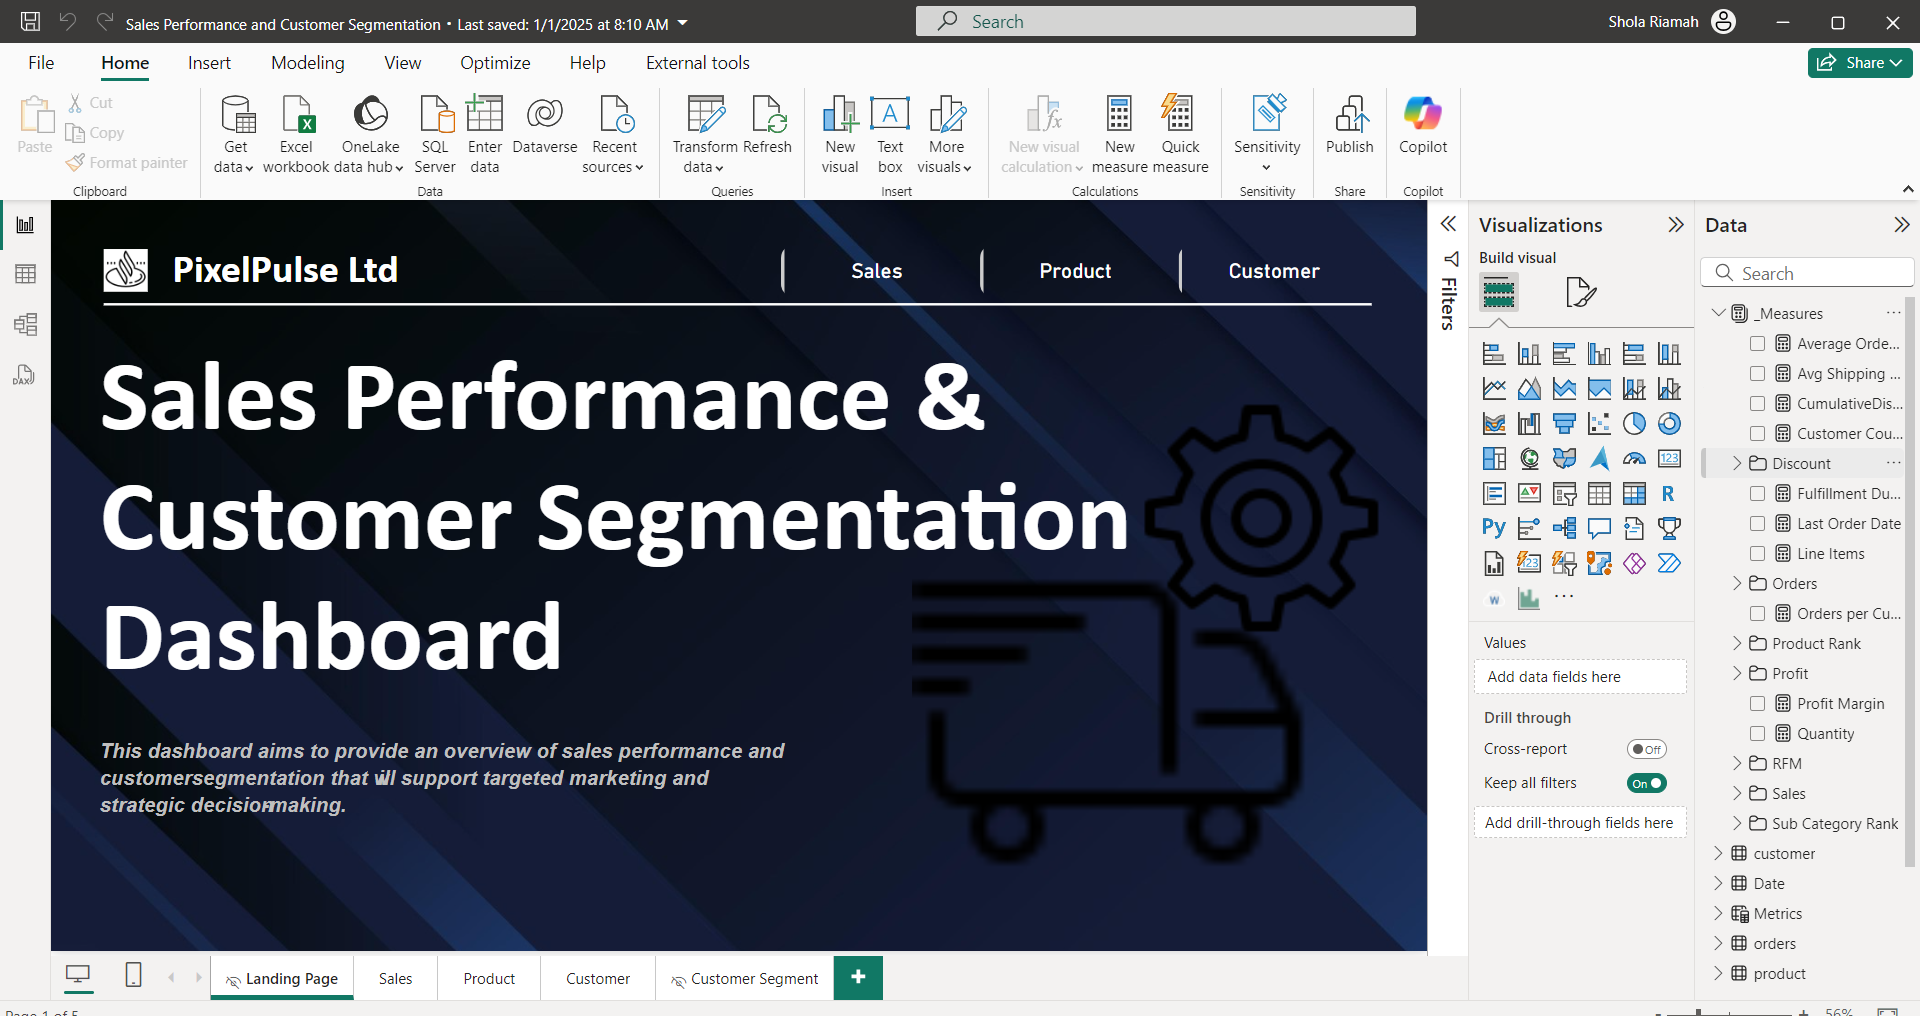

The page's visual inventory and layout, read from the dashboard file:
{"tool":"powerbi","page":{"name":"Landing Page","canvas":[1980,1080],"ordinal":0},"visuals":[{"type":"pageNavigator","box":[1050,64.3,850,75],"z":0}]}

Visuals, with their boxes on the page's 1980x1080 design canvas (x1, y1, x2, y2). These are canvas units, not pixel positions in the 1920x1016 screenshot, which may show the page scaled, cropped or inside an application window:
pageNavigator: (left=1050, top=64, right=1900, bottom=139)
